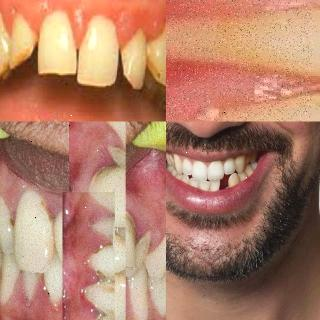Gum Swelling: (166, 0, 308, 122), (0, 1, 166, 40), (7, 277, 62, 320)
calculus: (25, 196, 57, 262), (86, 160, 122, 196), (83, 244, 114, 280), (123, 209, 138, 269), (88, 207, 116, 239), (43, 273, 61, 311), (21, 274, 37, 313), (137, 228, 155, 262), (86, 300, 114, 320), (103, 140, 121, 168), (4, 205, 18, 238)
maligned: (142, 12, 166, 84), (8, 9, 36, 68), (198, 179, 210, 193)
